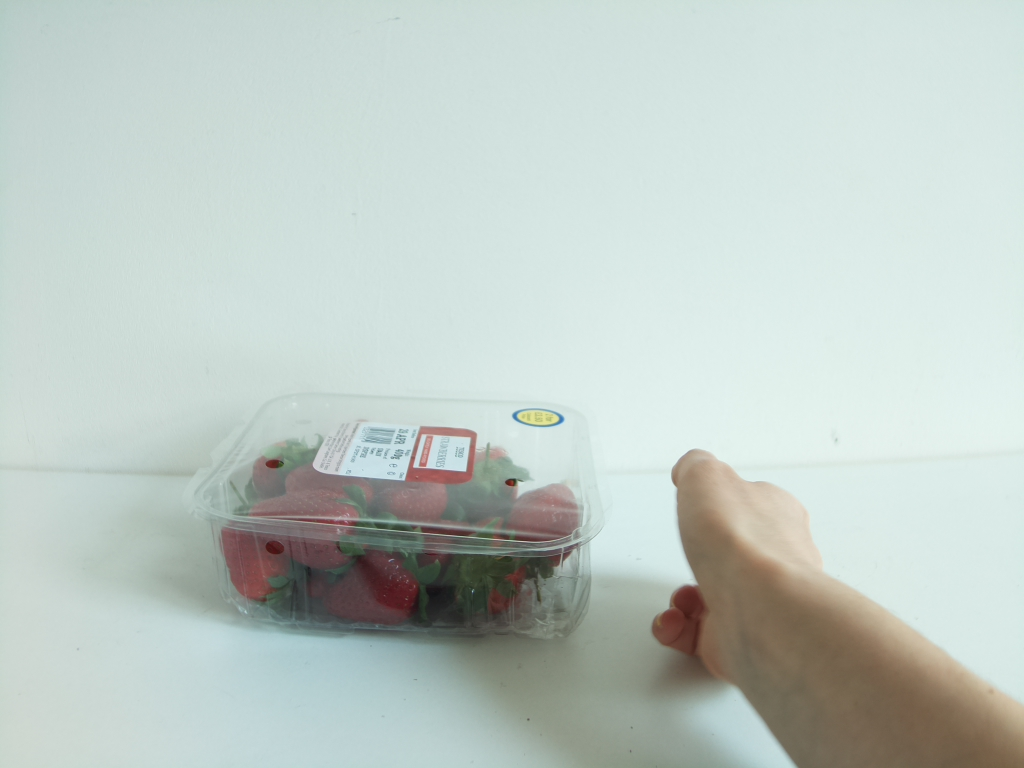soft-fruit: (189, 401, 605, 647)
